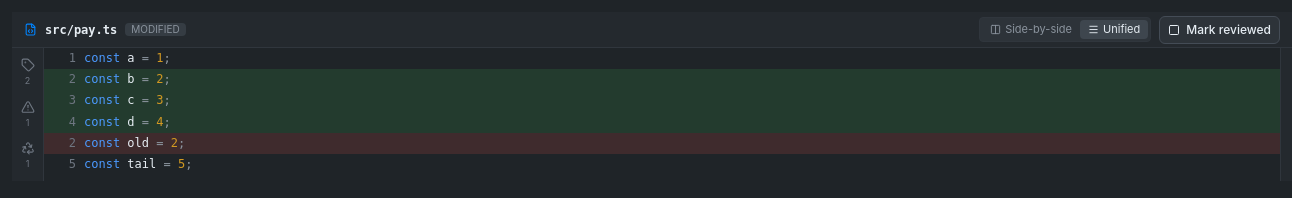
ReviewDiffPane › collapses a palette section and remembers it
Click the button with test id "review-tag-rail-tags".
click(28, 73)  # box [14, 54, 42, 92]
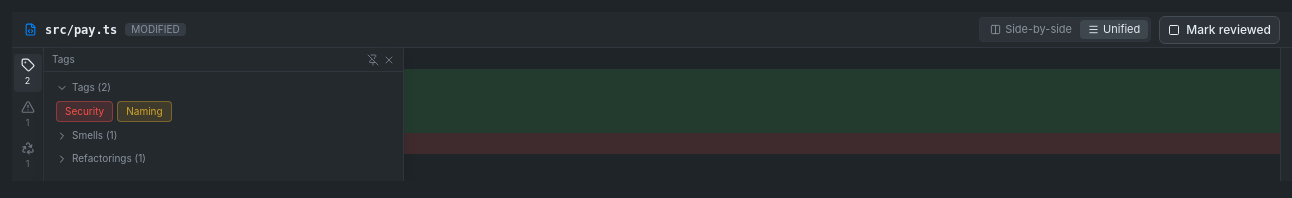
Click the button "Tags (2)".
click(62, 88)  # box [56, 78, 391, 97]
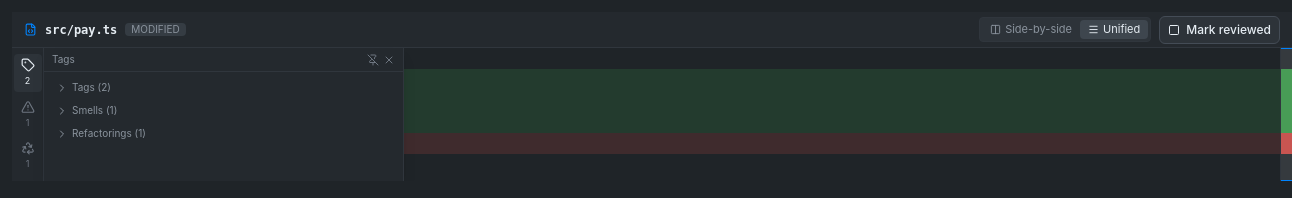
Result: the button "Tags (2)" is collapsed at [56, 78, 391, 97]
